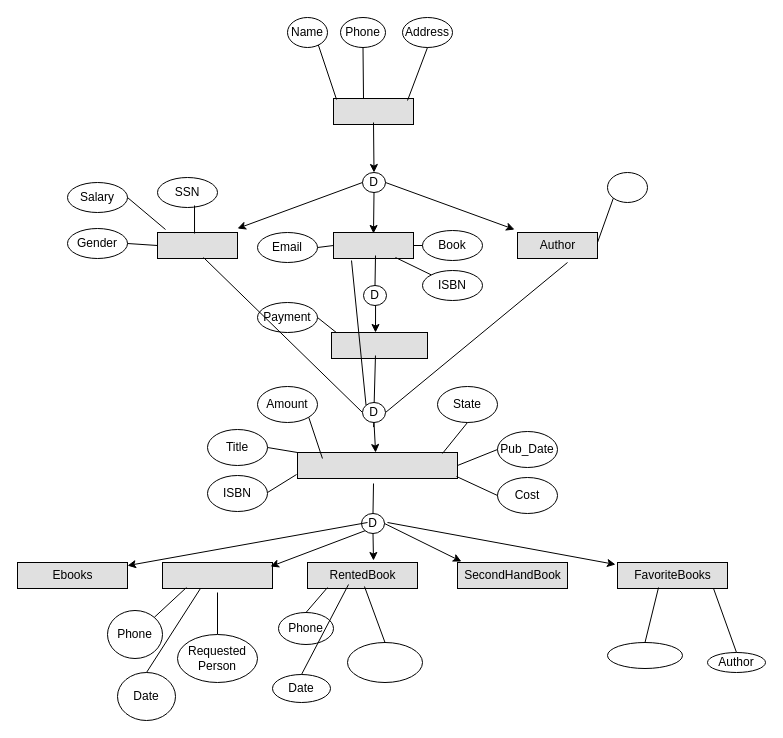
Image size: 783x738. Some labels were removed from this diagram. Here are the shapes that lost their labels. From the top down, the centre of each, then its label:
the point at 373,111: Person
the point at 627,187: ID
the point at 197,245: Employee
the point at 373,245: Customer
the point at 379,345: PrimeCustomer
the point at 377,465: Books
the point at 217,575: RequestedBook
the point at 384,662: Owner
the point at 644,655: Publisher
